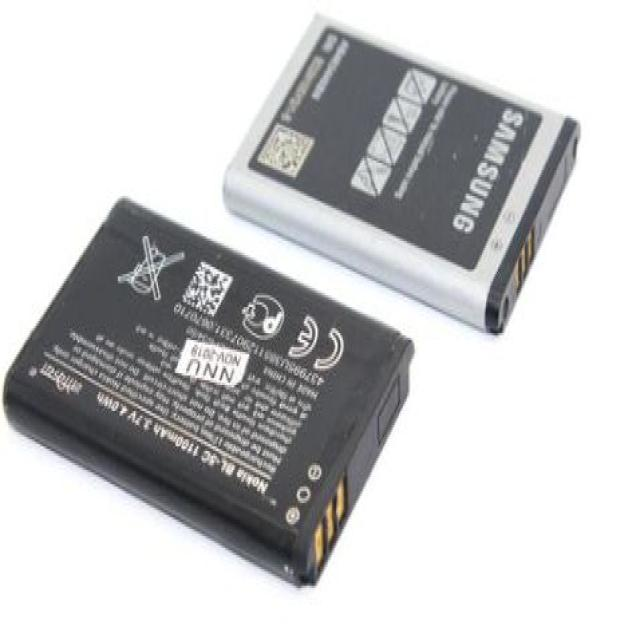electronic: (0, 154, 424, 617), (220, 0, 602, 406)
